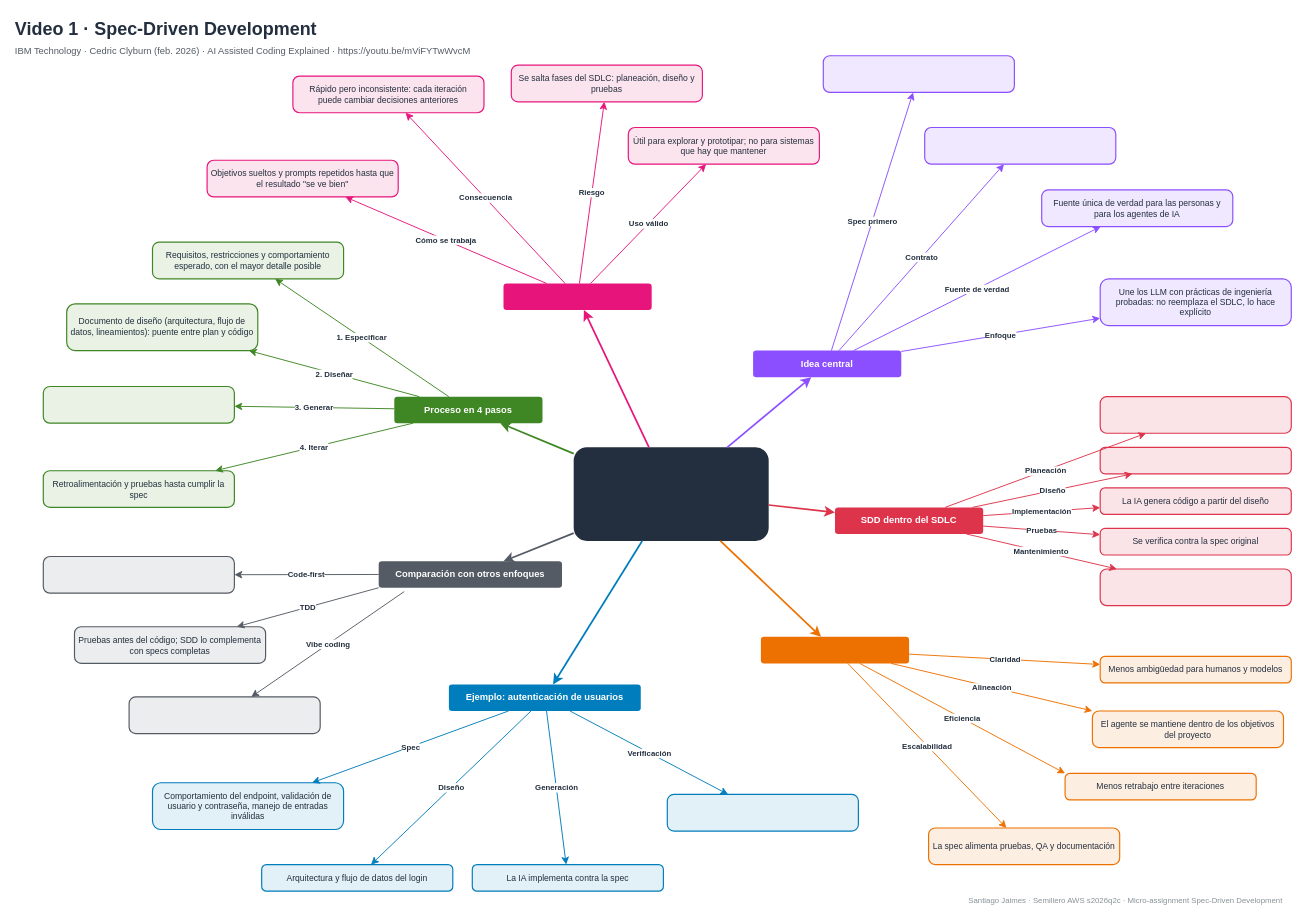
Some shapes in this 1305 by 920 pixel diagram are drawn without their labels. Each missing label, with the box of its shape:
Beneficios: (760, 636, 909, 663)
Define resultados deseados, restricciones y comportamiento del sistema: (1099, 396, 1292, 434)
El problema: vibe coding: (503, 283, 651, 310)
La IA produce código, pruebas y verificación ciñéndose al diseño: (42, 386, 235, 423)
La spec define comportamiento, restricciones y requisitos: (924, 127, 1116, 164)
La spec es la referencia para cambios y correcciones: (1099, 568, 1292, 606)
La spec se traduce en documentos de diseño: (1099, 446, 1292, 474)
Se escribe y se acuerda una especificación detallada antes de generar código: (822, 55, 1015, 93)
Se programa por intuición y se documenta después; riesgo de desalineación: (42, 556, 235, 593)
Se prueba contra los requisitos y se corrigen las diferencias: (666, 793, 859, 831)
SPEC-DRIVEN DEVELOPMENT: (573, 447, 768, 541)
Velocidad de exploración frente a precisión y mantenibilidad: (128, 696, 320, 734)
